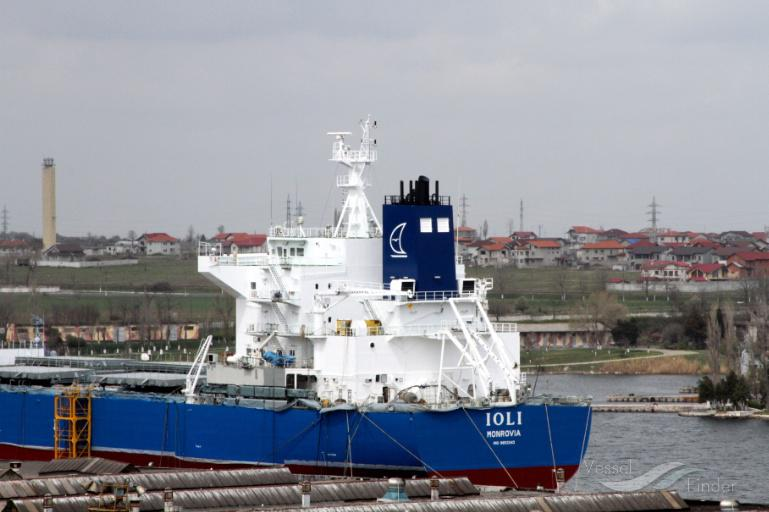OCR: (473, 407, 531, 452)
